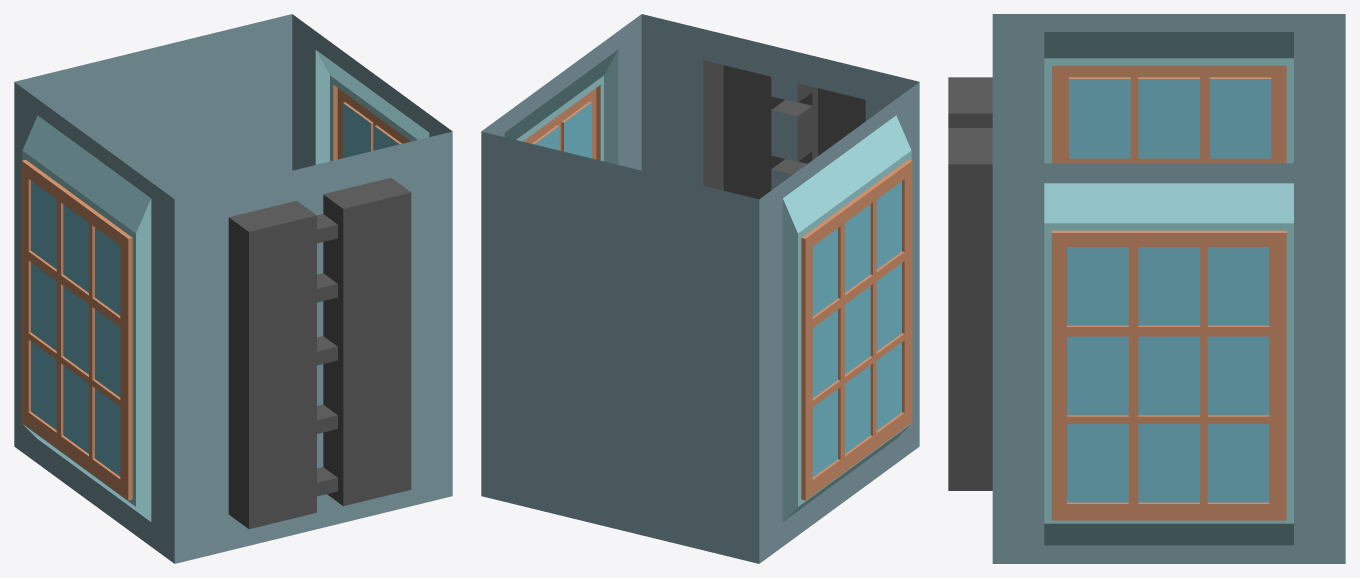
File: House1Part2.fbx
3 views of the same model, side by side, from view 1: azimuth 30°, elevation 25°; view 2: azimuth 150°, elevation 25°; view 3: azimuth 270°, elevation 25° (orthographic). The views are drawn at different scales.
Parts seen in each view (by area): view 1: Cube.005; view 2: Cube.005; view 3: Cube.005.
Part boxes in pixels (bbox=[...]): Cube.005: bbox=[14, 14, 452, 563]; Cube.005: bbox=[481, 14, 919, 563]; Cube.005: bbox=[948, 14, 1345, 563].
Bounding box in the file's own units: 227 × 251 × 225.
